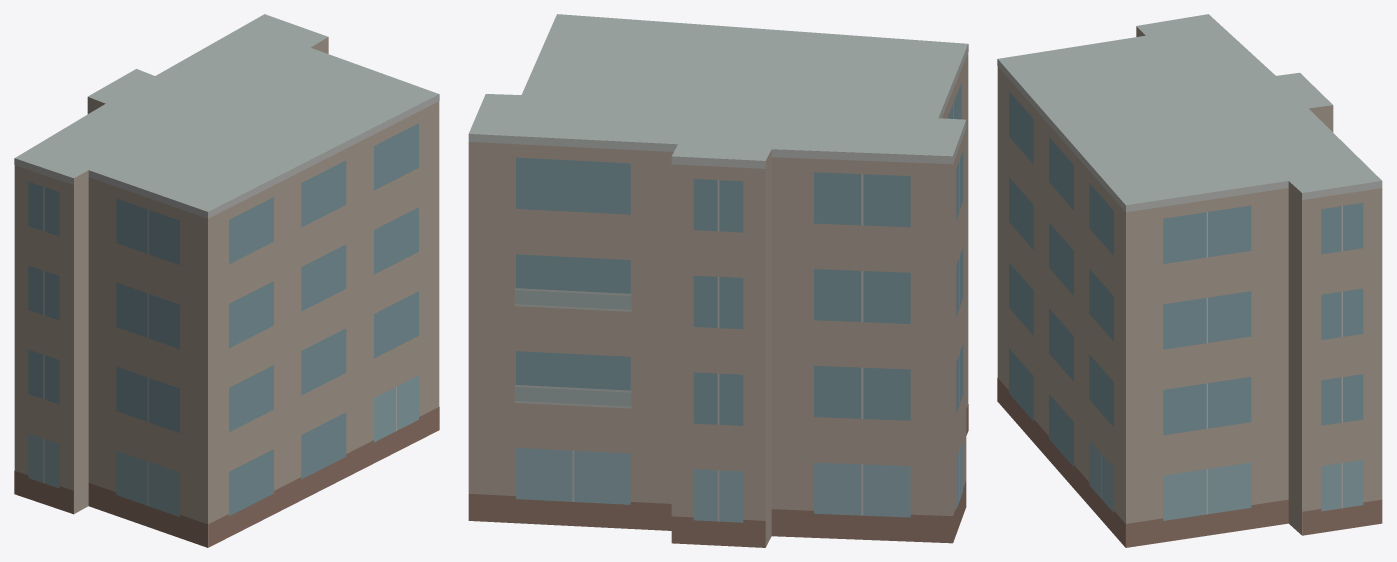
Rendered from survey-upis-32702048.glb.
3 renders of one model, left to right at view 1: azimuth 30°, elevation 25°; view 2: azimuth 150°, elevation 25°; view 3: azimuth 270°, elevation 25°, orthographic. The views are drawn at different scales.
Parts seen in each view (by area): view 1: survey-upis-32702048.tmp; view 2: survey-upis-32702048.tmp; view 3: survey-upis-32702048.tmp.
Part boxes in pixels (box(x1,y1,x2,y2)): survey-upis-32702048.tmp: box(14, 14, 439, 547); survey-upis-32702048.tmp: box(468, 14, 968, 547); survey-upis-32702048.tmp: box(997, 14, 1382, 547).
Size of the model in its own units: 14.2 by 11.85 by 12.07.
